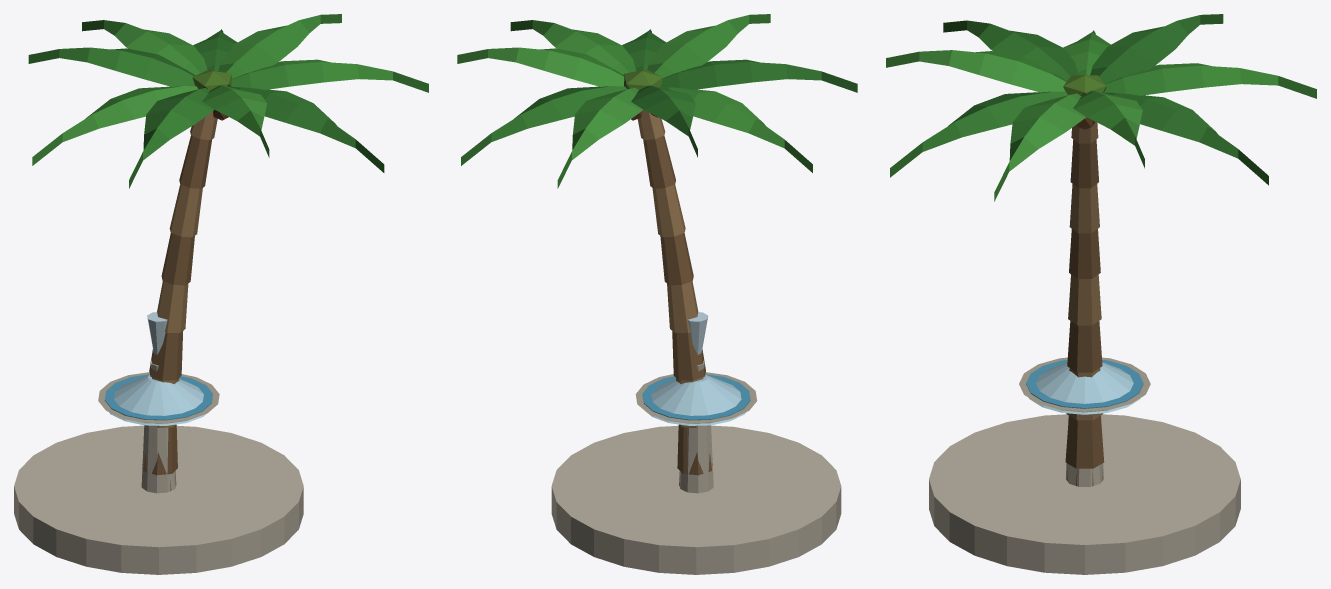
File: hotel.glb
The picture shows the model from 3 angles, left to right: view 1: azimuth 30°, elevation 25°; view 2: azimuth 150°, elevation 25°; view 3: azimuth 270°, elevation 25°; orthographic projection. The views are drawn at different scales.
Parts seen in each view (by area): view 1: fountain, palm; view 2: fountain, palm; view 3: fountain, palm.
Boxes of the visible parts, x1,y1,x2,y2 form: fountain: (14,312,303,574); palm: (28,14,428,491); fountain: (551,312,841,574); palm: (457,14,857,491); fountain: (929,357,1240,574); palm: (886,14,1316,486).
Size of the model in its own units: 7.32 by 8.75 by 7.18.
